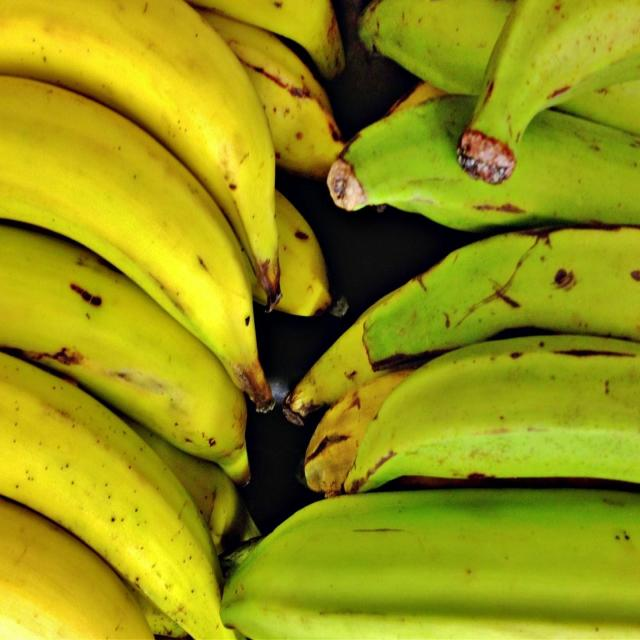banana: (0, 69, 273, 412), (0, 0, 282, 315), (0, 349, 240, 640), (0, 220, 253, 488), (216, 484, 640, 640), (343, 326, 640, 491), (322, 88, 640, 239), (349, 224, 640, 353), (454, 0, 640, 184)
